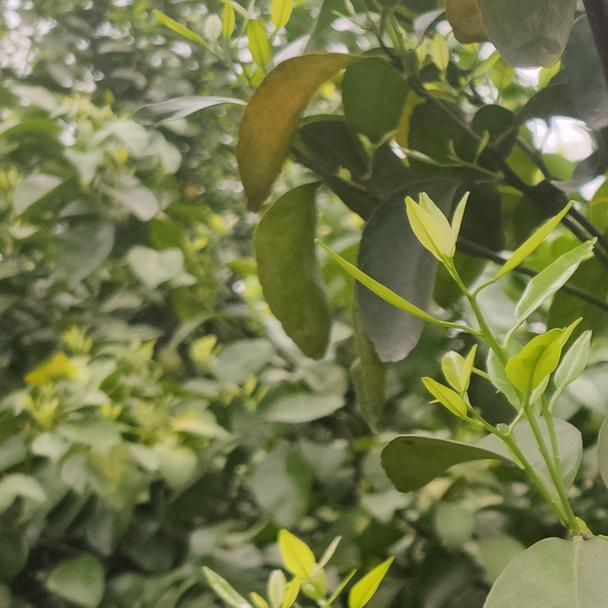shoot: (358, 190, 577, 483)
